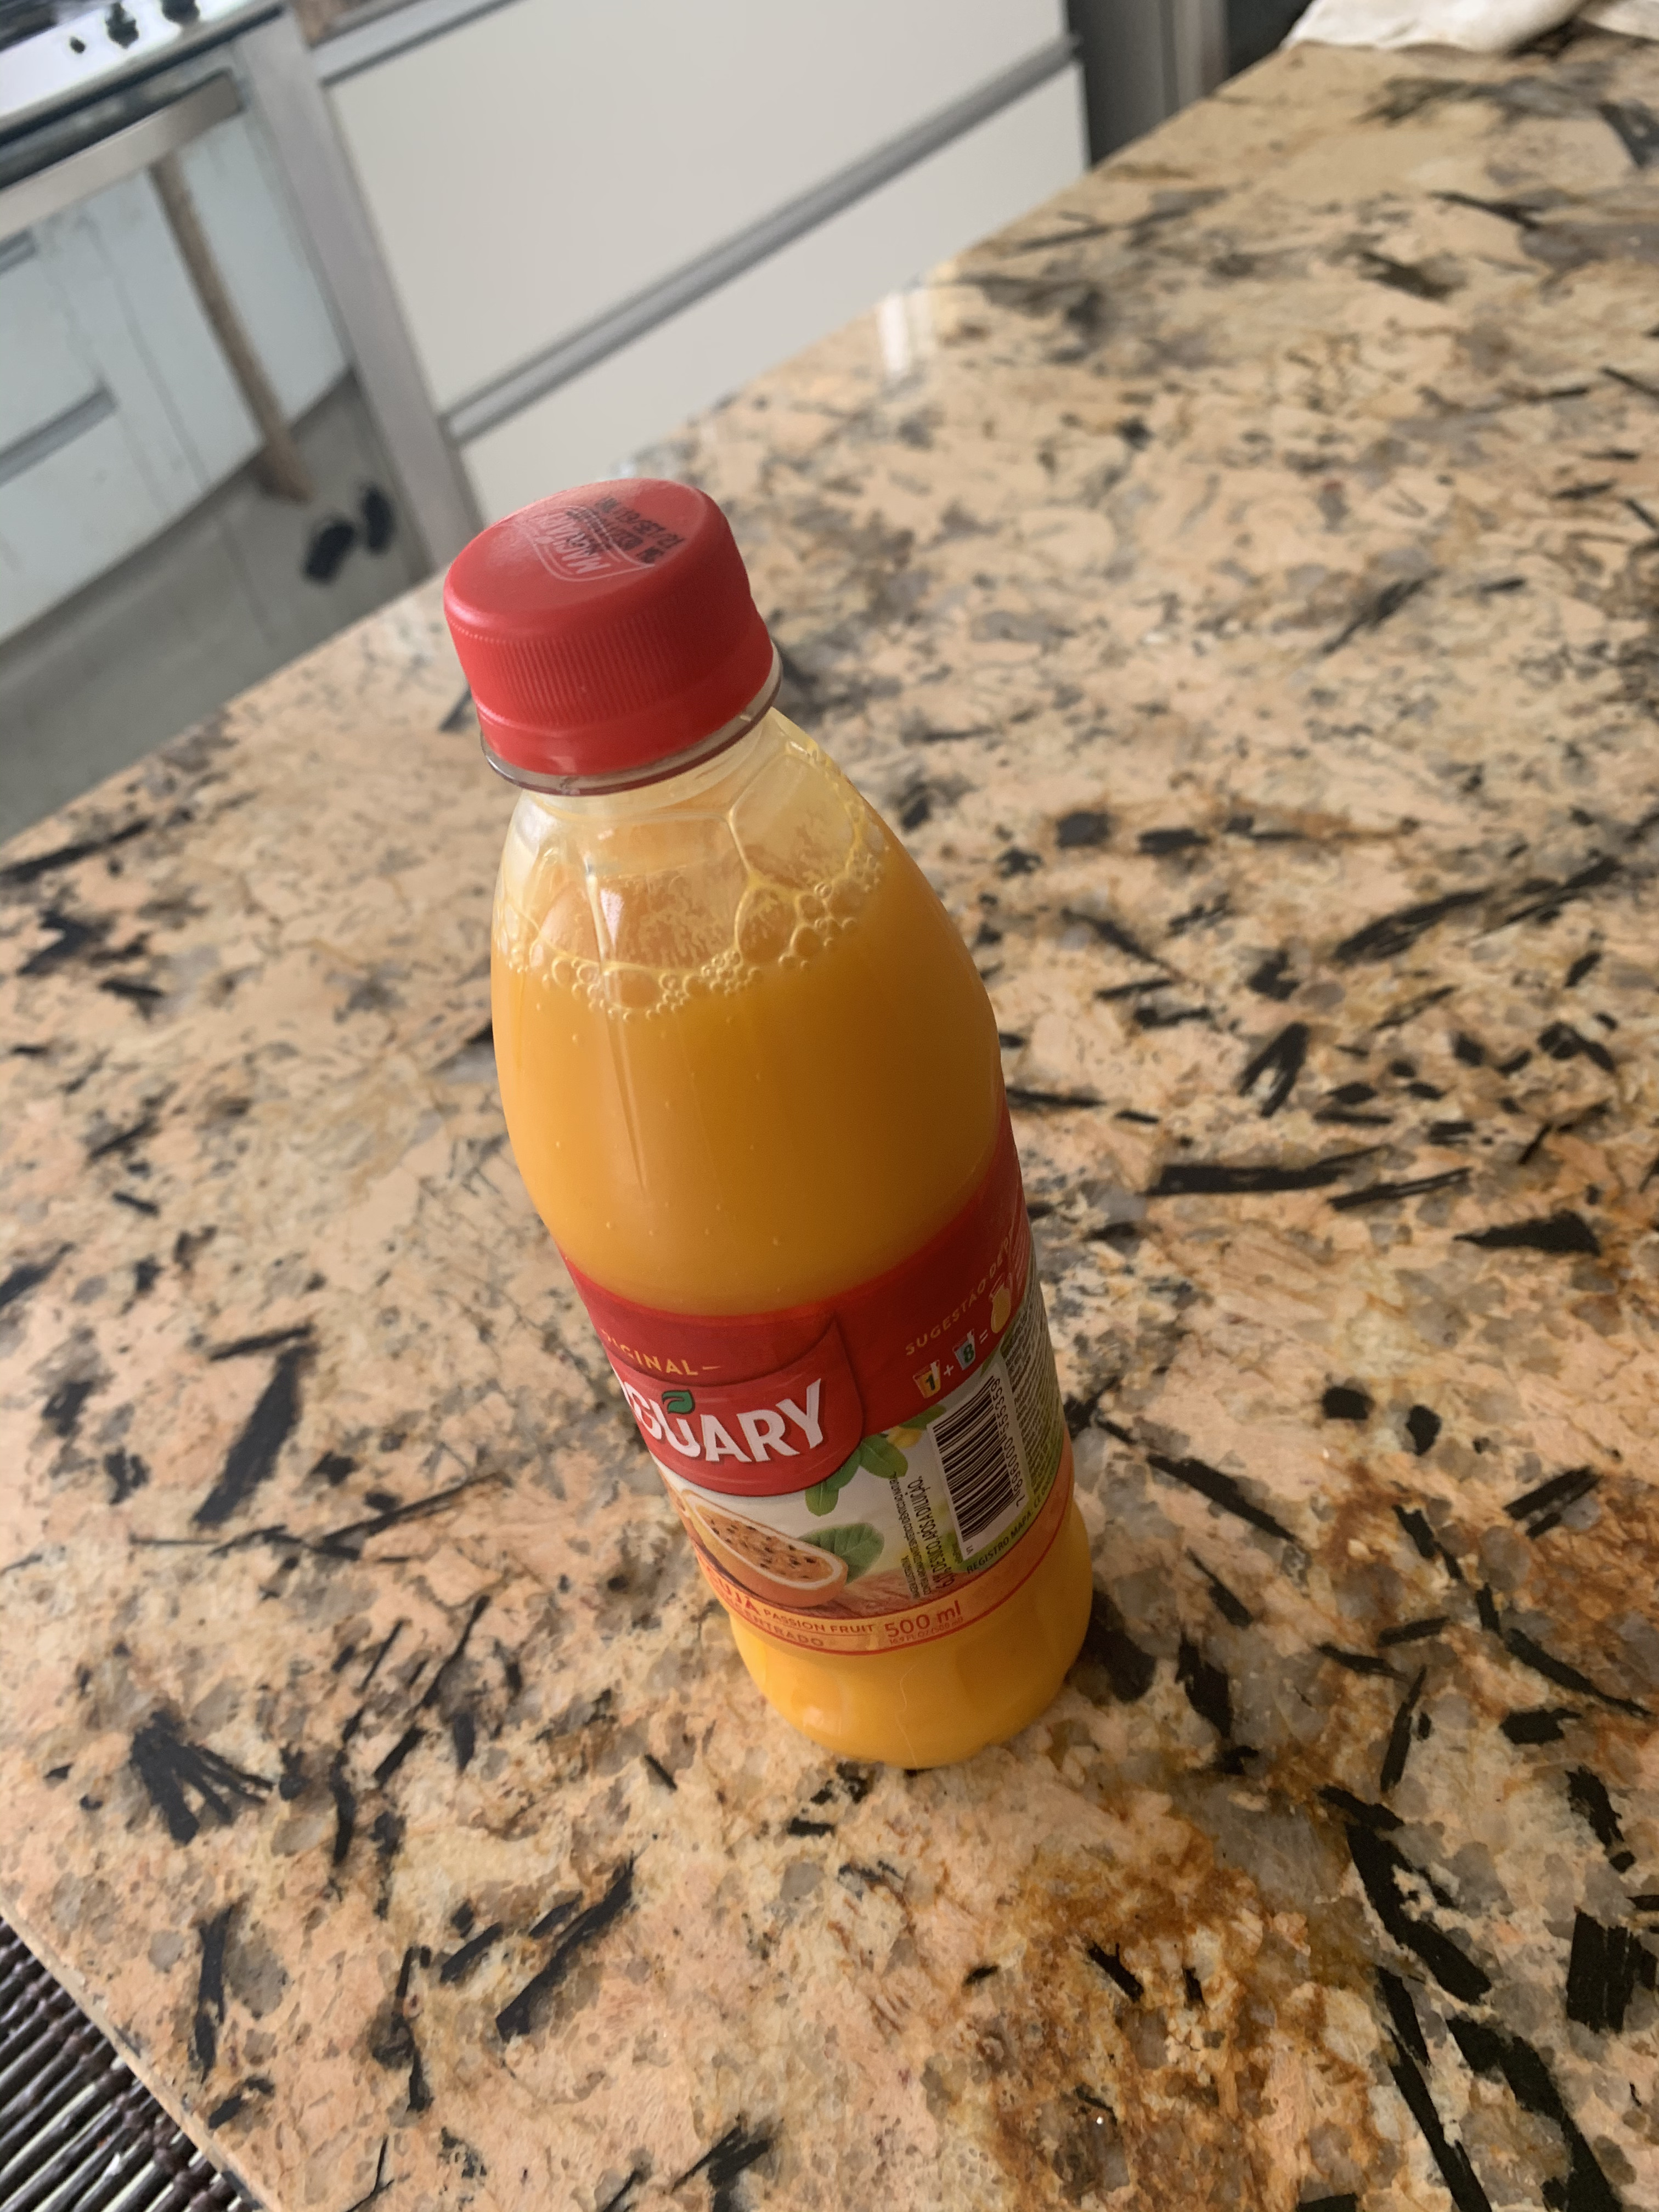maguary: (328, 467, 1155, 1822)
